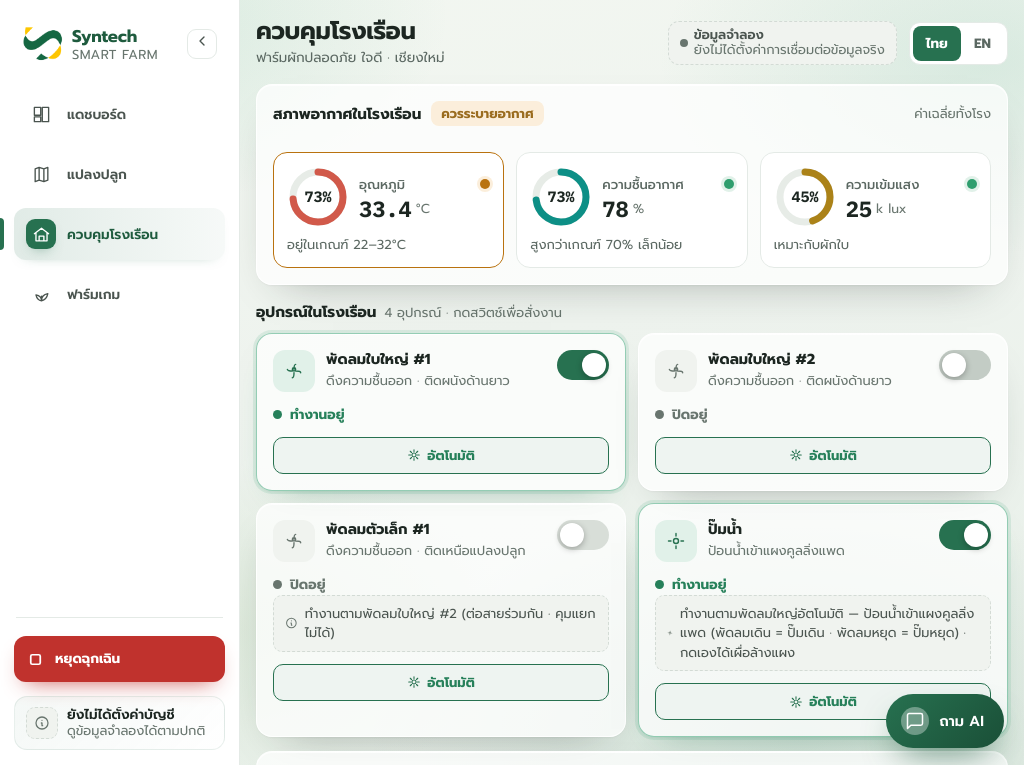
สถานะเชื่อมกันข้ามหน้า › สั่งงานที่หน้าโรงเรือน แล้วประวัติในลิ้นชักหน้าชลประทานเห็นด้วย
The image size is (1024, 765).
Click the button "หยุดฉุกเฉิน".
click(120, 659)  # box [14,636,225,682]
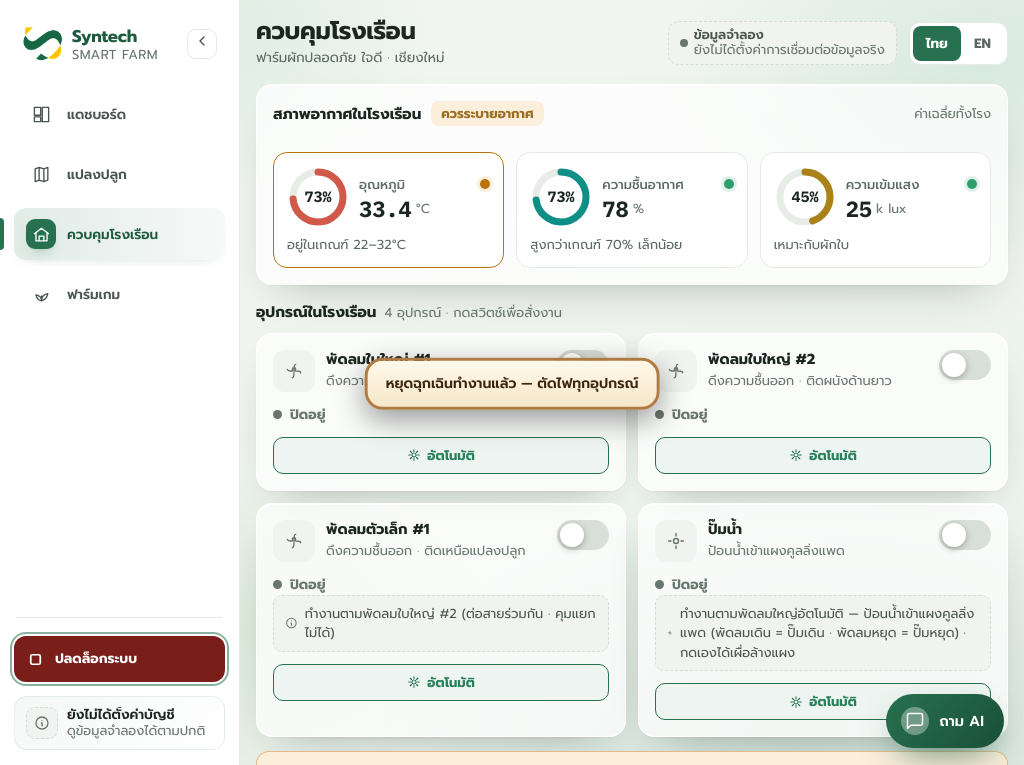
Click the button "แปลงปลูก".
click(120, 174)  # box [14,148,225,200]
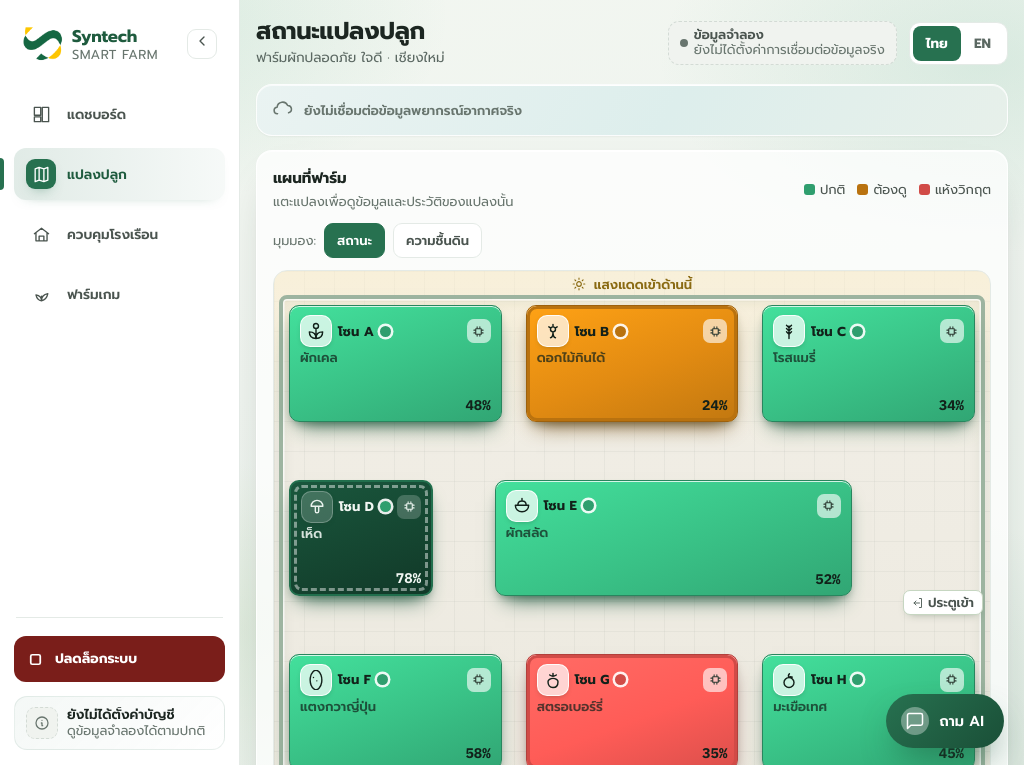
Click the button "โซน A".
click(356, 331)  # box [338,322,374,341]
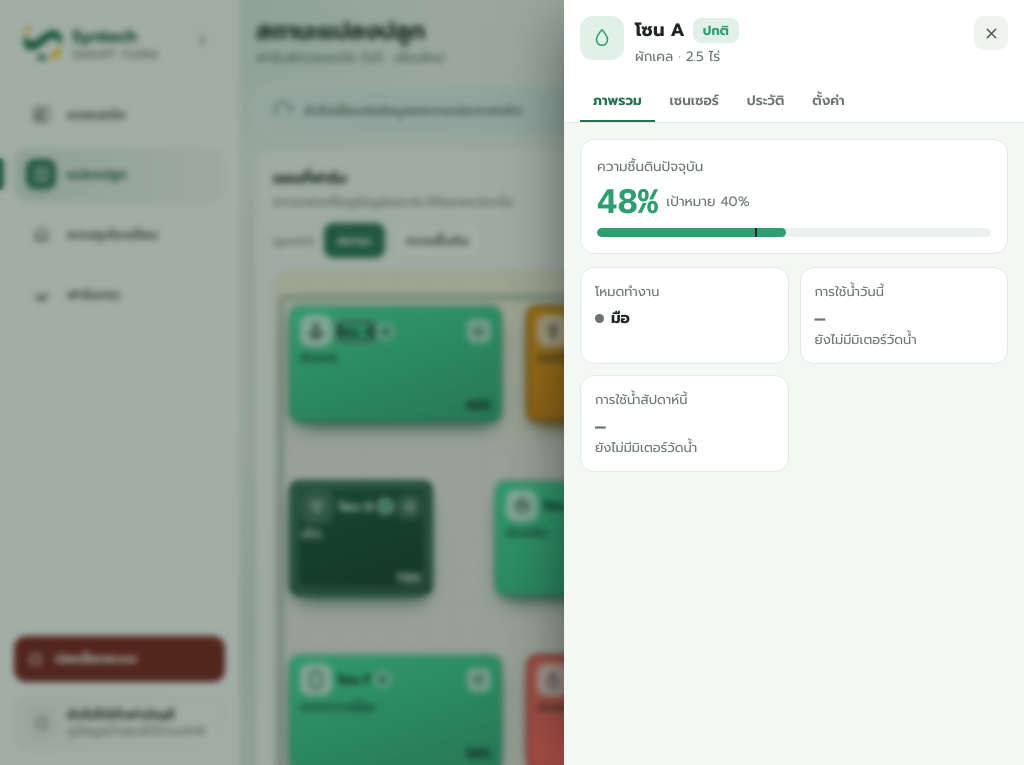
Click the tab "ประวัติ".
click(766, 102)  # box [734,81,797,122]
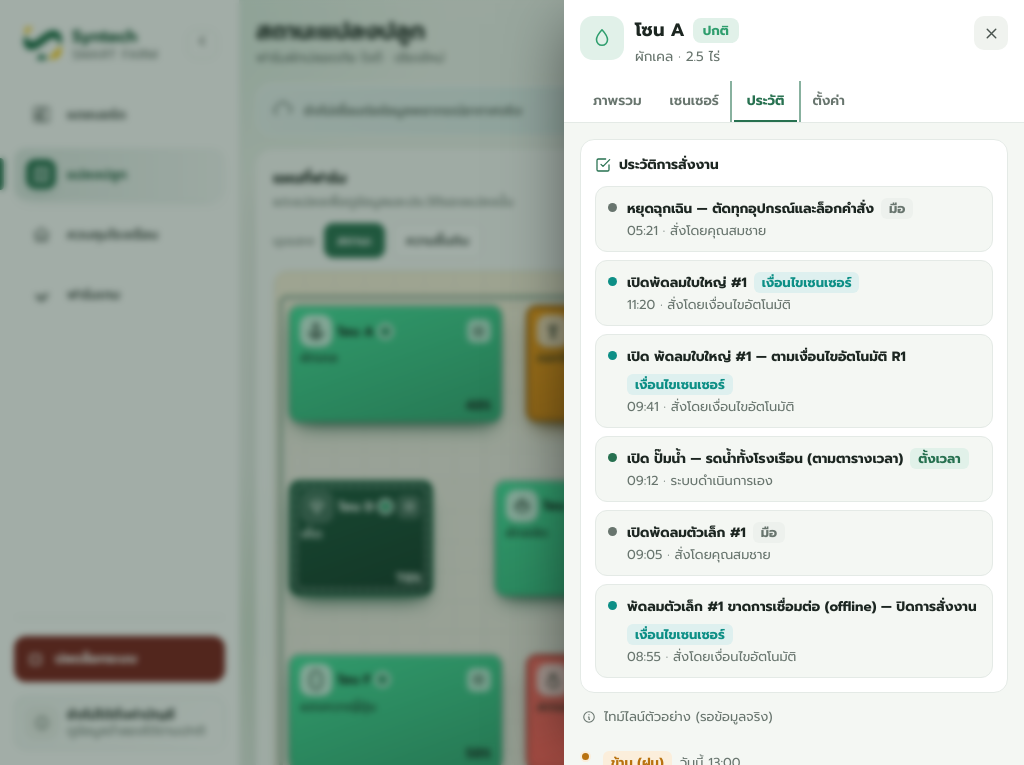
Now the text "หยุดฉุกเฉิน — ตัดทุกอุปกรณ์และล็อกคำสั่ง" is shown, box [627,198,874,219]
